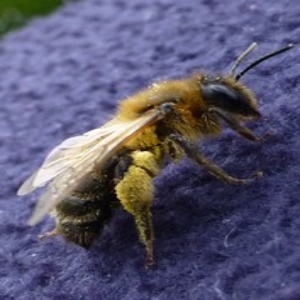bee: (14, 41, 300, 268)
